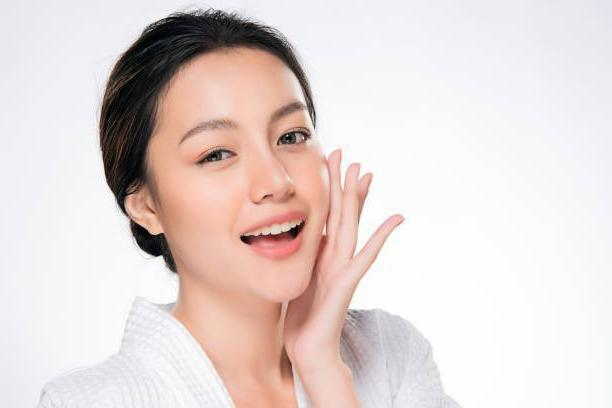Sober: (167, 74, 326, 286)
